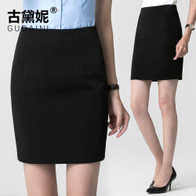F_tailored skirt: (5, 22, 117, 169), (129, 2, 189, 85)
